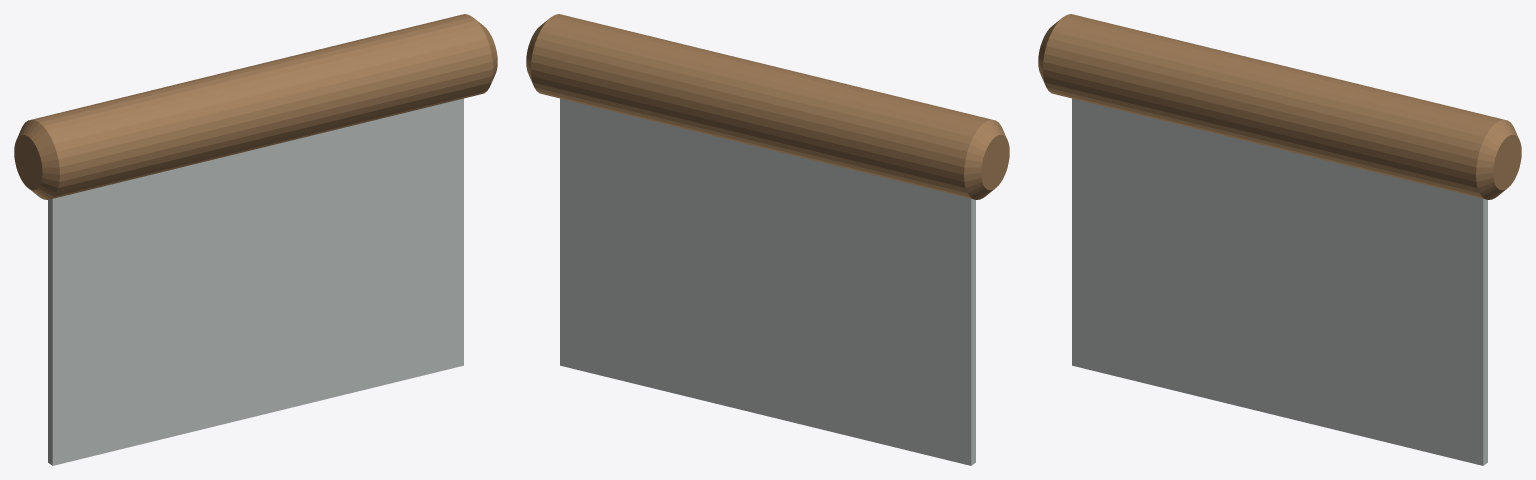
3 renders of one model, left to right at view 1: azimuth 30°, elevation 25°; view 2: azimuth 150°, elevation 25°; view 3: azimuth 330°, elevation 25°, orthographic.
Visible parts, largest first — view 1: WholeBroadFiniteBluntBenchPlate, WholeCrosswiseRoundedPalmGrip; view 2: WholeBroadFiniteBluntBenchPlate, WholeCrosswiseRoundedPalmGrip; view 3: WholeBroadFiniteBluntBenchPlate, WholeCrosswiseRoundedPalmGrip.
Part boxes in pixels (x1=…): WholeBroadFiniteBluntBenchPlate: x1=48, y1=98, x2=463, y2=465; WholeCrosswiseRoundedPalmGrip: x1=14, y1=14, x2=497, y2=199; WholeBroadFiniteBluntBenchPlate: x1=560, y1=98, x2=975, y2=465; WholeCrosswiseRoundedPalmGrip: x1=526, y1=14, x2=1009, y2=199; WholeBroadFiniteBluntBenchPlate: x1=1072, y1=98, x2=1487, y2=465; WholeCrosswiseRoundedPalmGrip: x1=1038, y1=14, x2=1521, y2=199.
Size of the model in its own units: 0.166 by 0.12 by 0.026.
